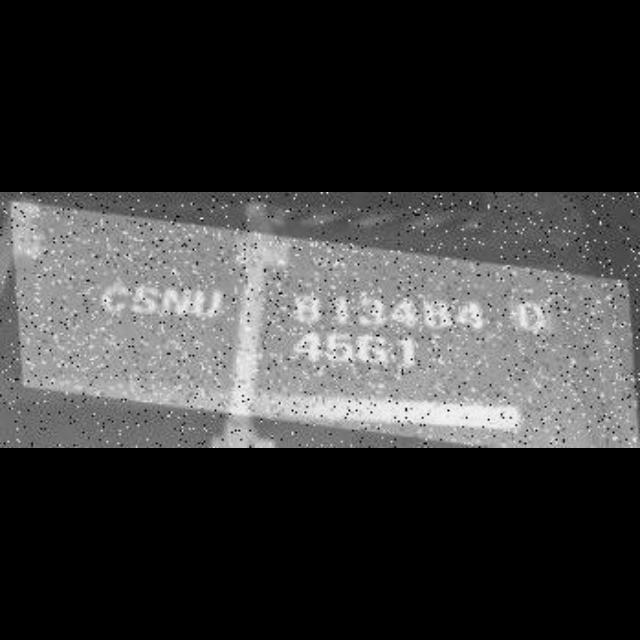0: (513, 298, 549, 339)
1: (394, 334, 420, 371), (331, 291, 354, 329)
3: (354, 292, 388, 330)
4: (388, 288, 420, 332), (292, 326, 324, 370), (456, 297, 490, 335)
5: (324, 328, 352, 364)
6: (356, 332, 388, 370)
8: (422, 294, 451, 332), (291, 292, 325, 324)
c: (98, 280, 132, 318)
n: (162, 281, 196, 321)
s: (130, 280, 162, 318)
u: (194, 286, 226, 322)
